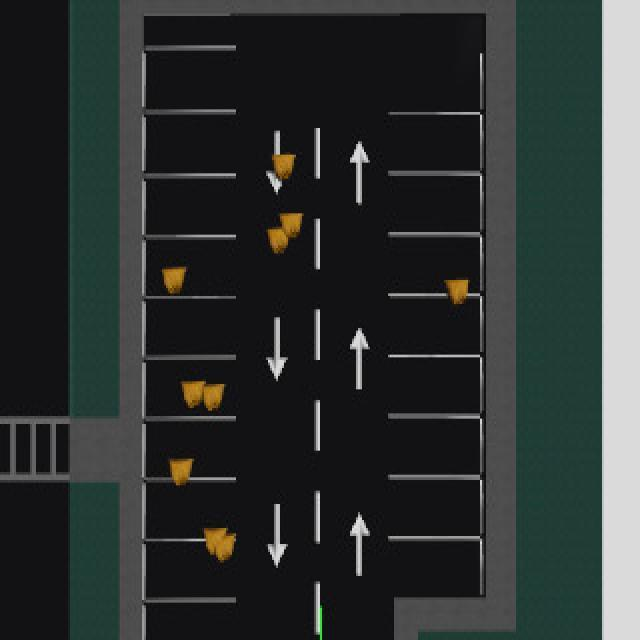garbage-trXY: (272, 151, 298, 180), (168, 459, 196, 485), (158, 268, 187, 293), (178, 382, 206, 406), (199, 387, 225, 412), (278, 214, 303, 239), (443, 279, 468, 302), (214, 535, 237, 559), (268, 229, 292, 251), (203, 529, 227, 551)
